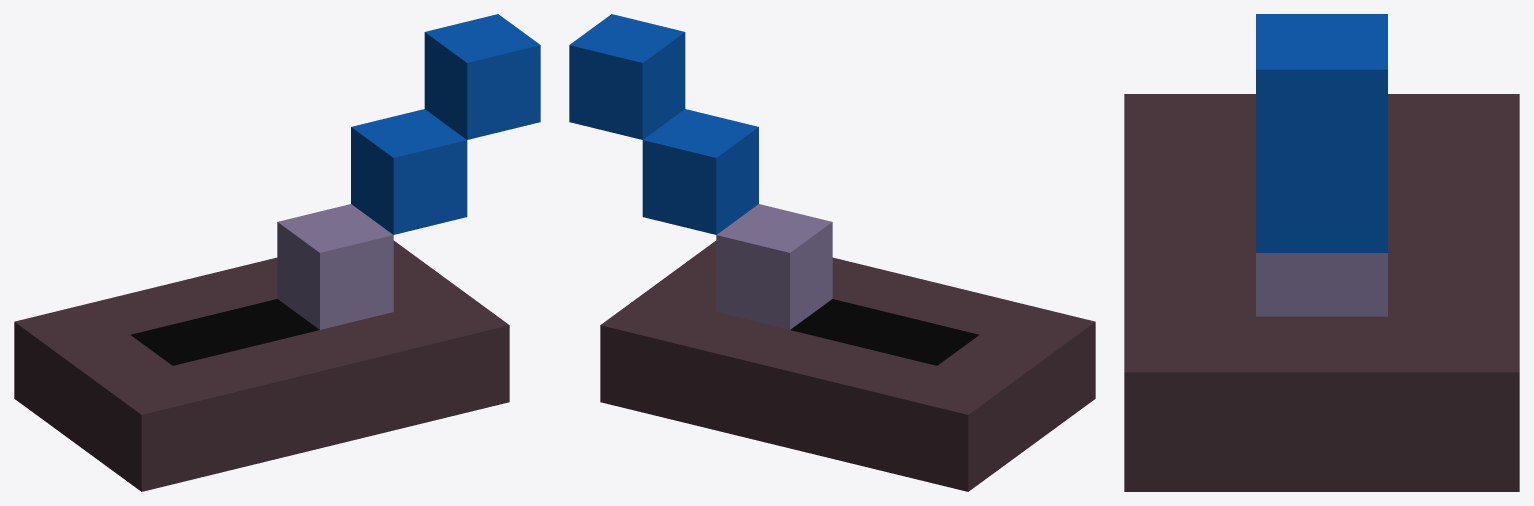
Rendered from lever_b_b_blue_on.obj.
The picture shows the model from 3 angles, left to right: view 1: azimuth 30°, elevation 25°; view 2: azimuth 150°, elevation 25°; view 3: azimuth 270°, elevation 25°; orthographic projection. The views are drawn at different scales.
Bounding box in the file's own units: 0.6 × 0.4 × 0.3.
1 material, 1 textured.
